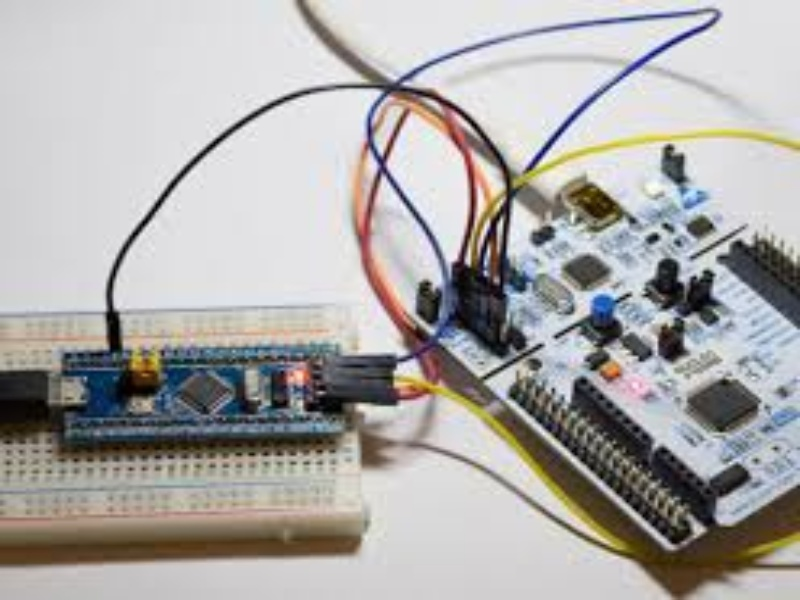stmnucleo: (395, 138, 800, 552)
